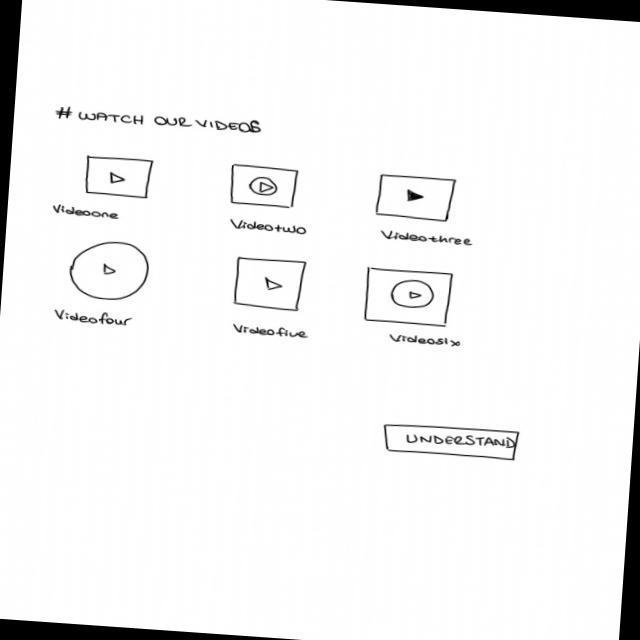button: (381, 422, 521, 463)
label: (51, 104, 268, 138), (380, 228, 476, 248), (52, 308, 134, 328), (230, 323, 312, 342), (229, 218, 310, 236), (388, 334, 465, 350), (52, 205, 122, 222)
